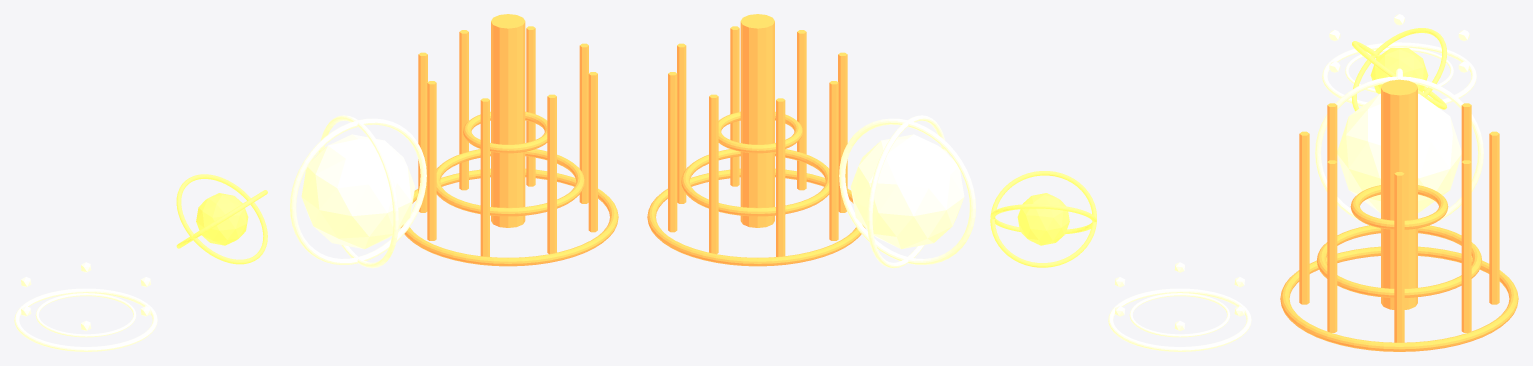
Rendered from erine_skills_vfx.glb.
The picture shows the model from 3 angles, left to right: view 1: azimuth 30°, elevation 25°; view 2: azimuth 150°, elevation 25°; view 3: azimuth 270°, elevation 25°; orthographic projection. The views are drawn at different scales.
Parts seen in each view (by area): view 1: VFX_Ultimate, VFX_Skill_2, VFX_Skill_1, VFX_Passive; view 2: VFX_Ultimate, VFX_Skill_2, VFX_Skill_1, VFX_Passive; view 3: VFX_Ultimate, VFX_Skill_2, VFX_Skill_1, VFX_Passive.
Boxes of the visible parts, left/top/right/bottom form: VFX_Ultimate: left=400, top=14, right=618, bottom=266; VFX_Skill_2: left=290, top=115, right=426, bottom=268; VFX_Skill_1: left=176, top=174, right=267, bottom=264; VFX_Passive: left=14, top=262, right=157, bottom=351; VFX_Ultimate: left=647, top=14, right=865, bottom=266; VFX_Skill_2: left=839, top=115, right=975, bottom=268; VFX_Skill_1: left=990, top=171, right=1096, bottom=267; VFX_Passive: left=1108, top=262, right=1251, bottom=351; VFX_Ultimate: left=1280, top=79, right=1518, bottom=351; VFX_Skill_2: left=1315, top=68, right=1483, bottom=220; VFX_Skill_1: left=1351, top=28, right=1447, bottom=111; VFX_Passive: left=1322, top=14, right=1476, bottom=106.
Size of the model in its own units: 8.55 by 2.88 by 2.81.
